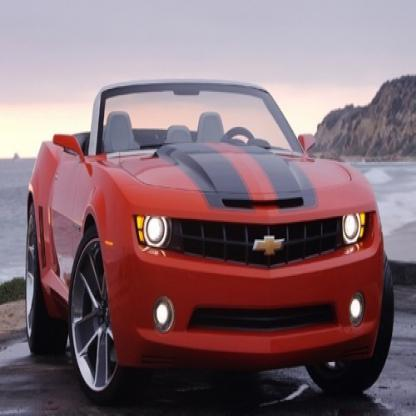Vehicle: (22, 76, 398, 414)
